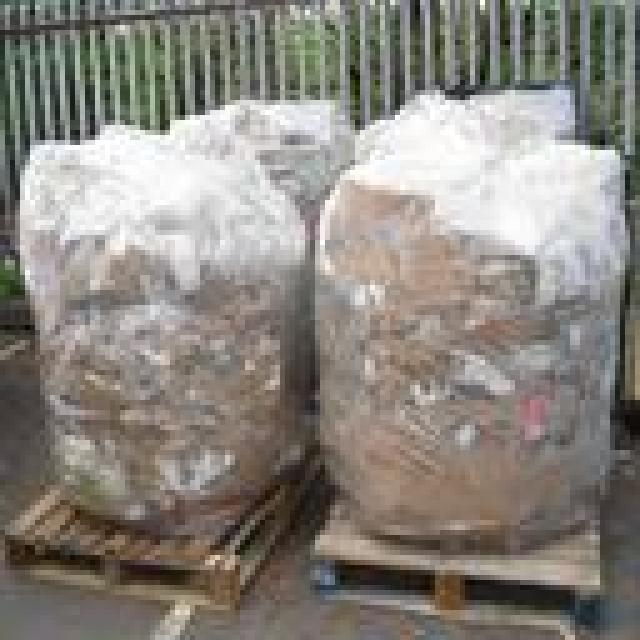Anorganik: (345, 80, 620, 275), (15, 120, 290, 230), (160, 90, 335, 155), (460, 80, 570, 135)
Organik: (310, 175, 605, 555), (20, 225, 315, 535), (255, 145, 345, 205)
